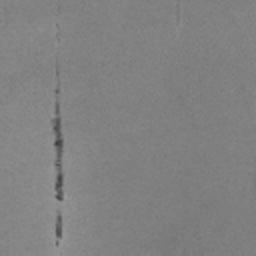Slag inclusion: (50, 64, 66, 202), (54, 210, 64, 248)
